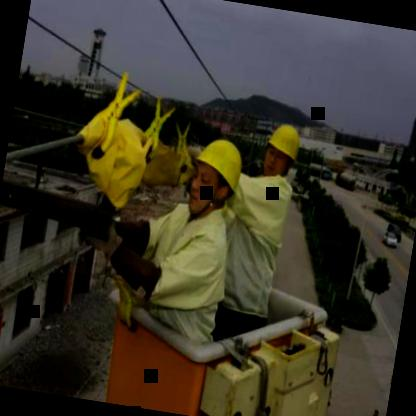helmet: (181, 127, 253, 221), (258, 116, 306, 184)
